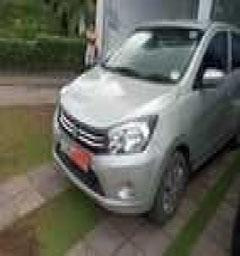car: (15, 8, 238, 236)
